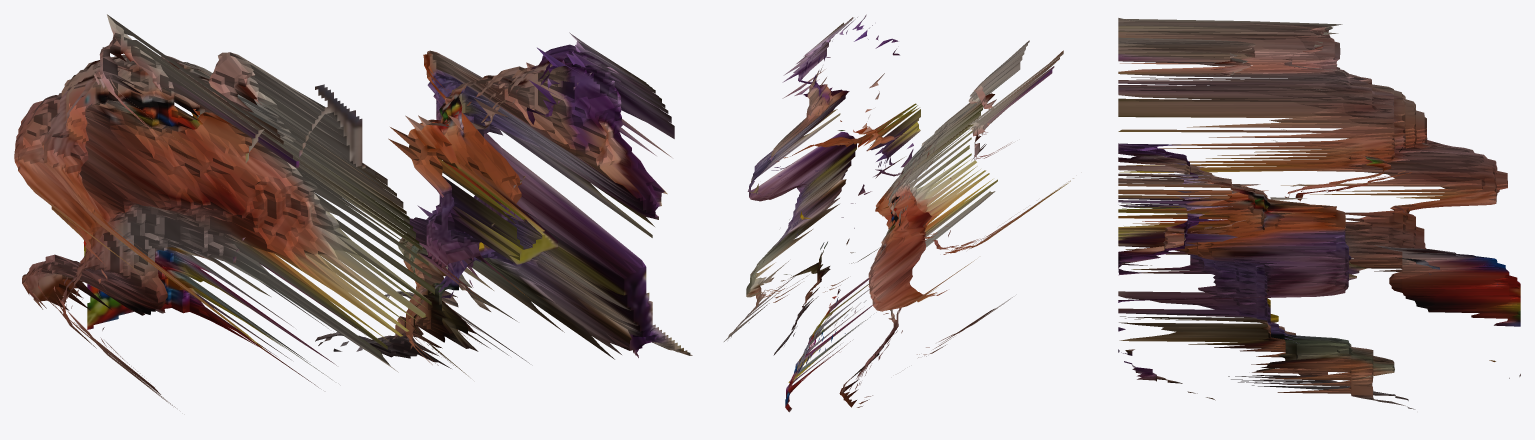
The model's file is frame_00370.glb.
3 renders of one model, left to right at view 1: azimuth 30°, elevation 25°; view 2: azimuth 150°, elevation 25°; view 3: azimuth 270°, elevation 25°, orthographic. The views are drawn at different scales.
Parts seen in each view (by area): view 1: geometry_0; view 2: geometry_0; view 3: geometry_0.
Boxes of the visible parts, left/top/right/bottom form: geometry_0: left=14, top=14, right=692, bottom=407; geometry_0: left=724, top=14, right=1073, bottom=412; geometry_0: left=1118, top=18, right=1520, bottom=409.
Bounding box in the file's own units: 0.1446 × 0.1425 × 0.16.
Materials: 1 (1 with a texture image).
